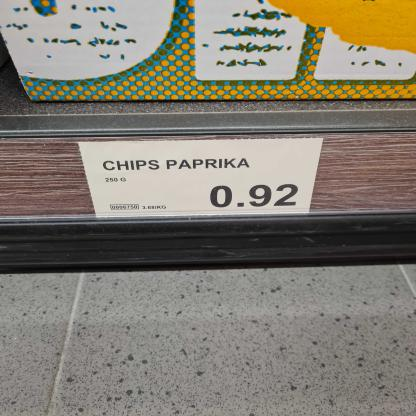prtg: (80, 139, 326, 219)
